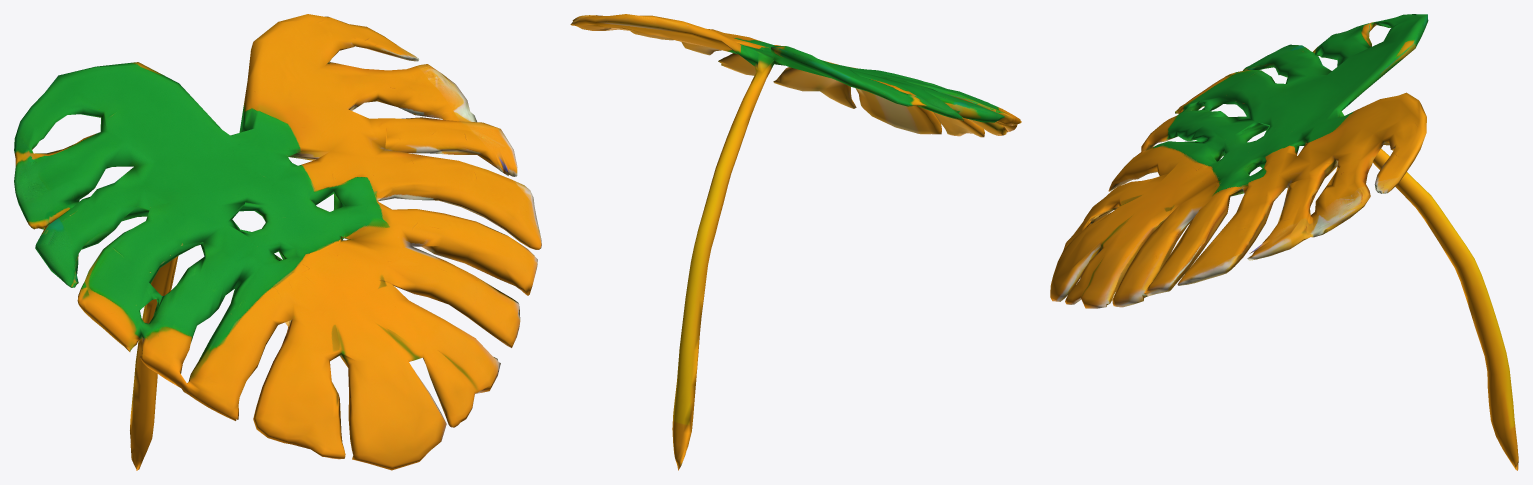
File: mon_variegata_gold_new.glb
3 renders of one model, left to right at view 1: azimuth 30°, elevation 25°; view 2: azimuth 150°, elevation 25°; view 3: azimuth 270°, elevation 25°, orthographic. The views are drawn at different scales.
Bounding box in the file's own units: 1.99 × 1.91 × 2.
1 material, 1 textured.
